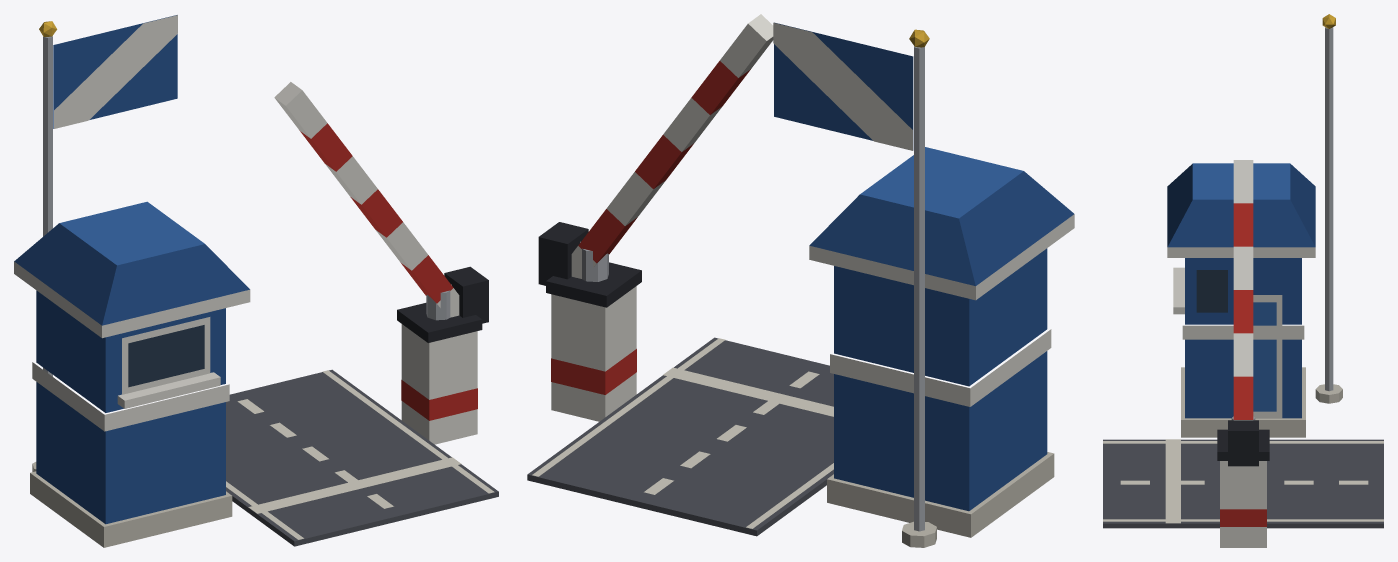
The model's file is special-customs.glb.
3 renders of one model, left to right at view 1: azimuth 30°, elevation 25°; view 2: azimuth 150°, elevation 25°; view 3: azimuth 270°, elevation 25°, orthographic. The views are drawn at different scales.
Parts seen in each view (by area): view 1: special-customs; view 2: special-customs; view 3: special-customs.
Part boxes in pixels (<box>): special-customs: <box>14,15,498,547</box>; special-customs: <box>527,14,1074,547</box>; special-customs: <box>1103,14,1383,547</box>.
Bounding box in the file's own units: 2.36 × 2.42 × 1.61.
